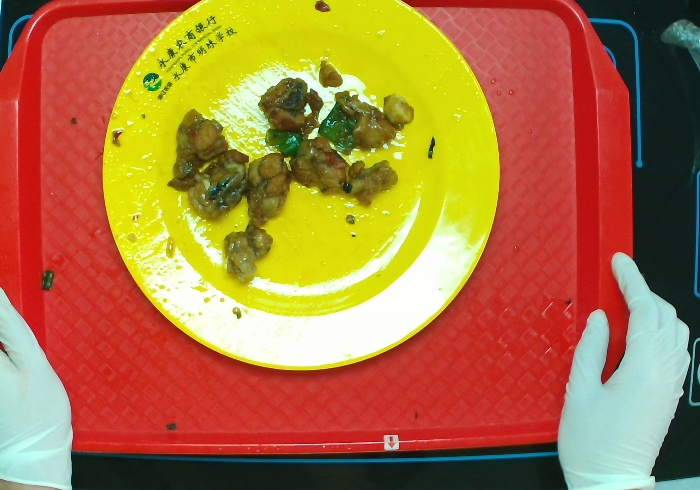YKMZ-Huang_Se_Mian_Pan: (97, 1, 500, 373)
